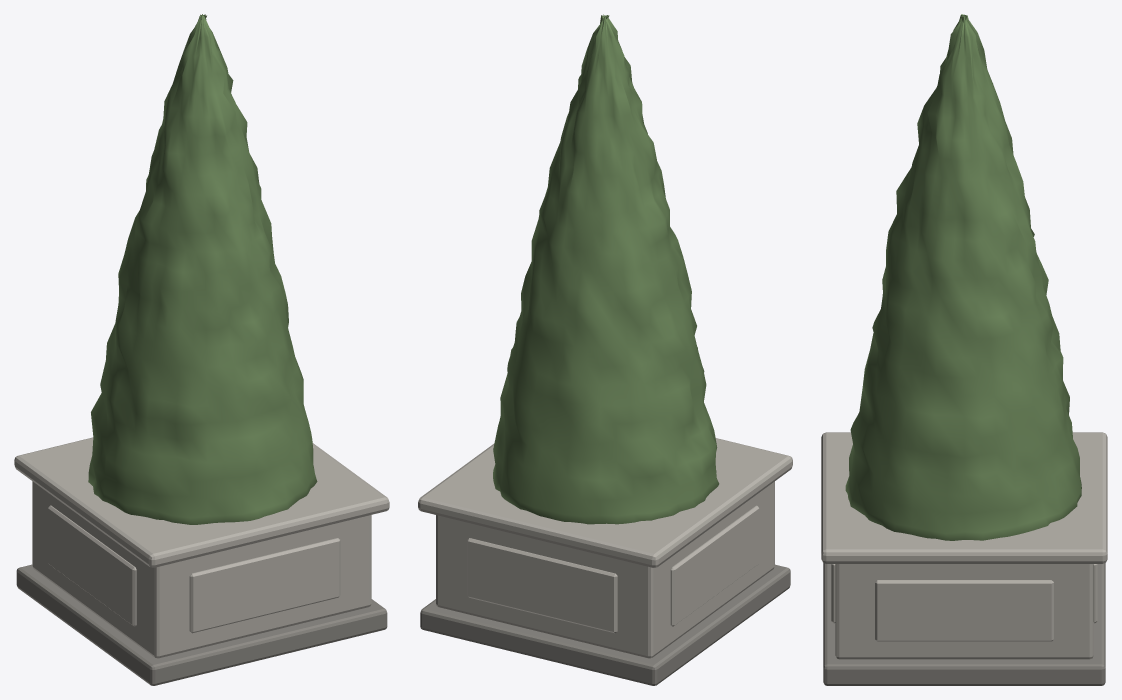
Rendered from topiary_planter.glb.
3 renders of one model, left to right at view 1: azimuth 30°, elevation 25°; view 2: azimuth 150°, elevation 25°; view 3: azimuth 270°, elevation 25°, orthographic. The views are drawn at different scales.
Visible parts, largest first — view 1: topiary_planter; view 2: topiary_planter; view 3: topiary_planter.
Part boxes in pixels (x1,y1,x2,y2): topiary_planter: (14,14,389,685); topiary_planter: (418,14,792,685); topiary_planter: (821,14,1107,685).
Size of the model in its own units: 1.44 by 3.4 by 1.44.
